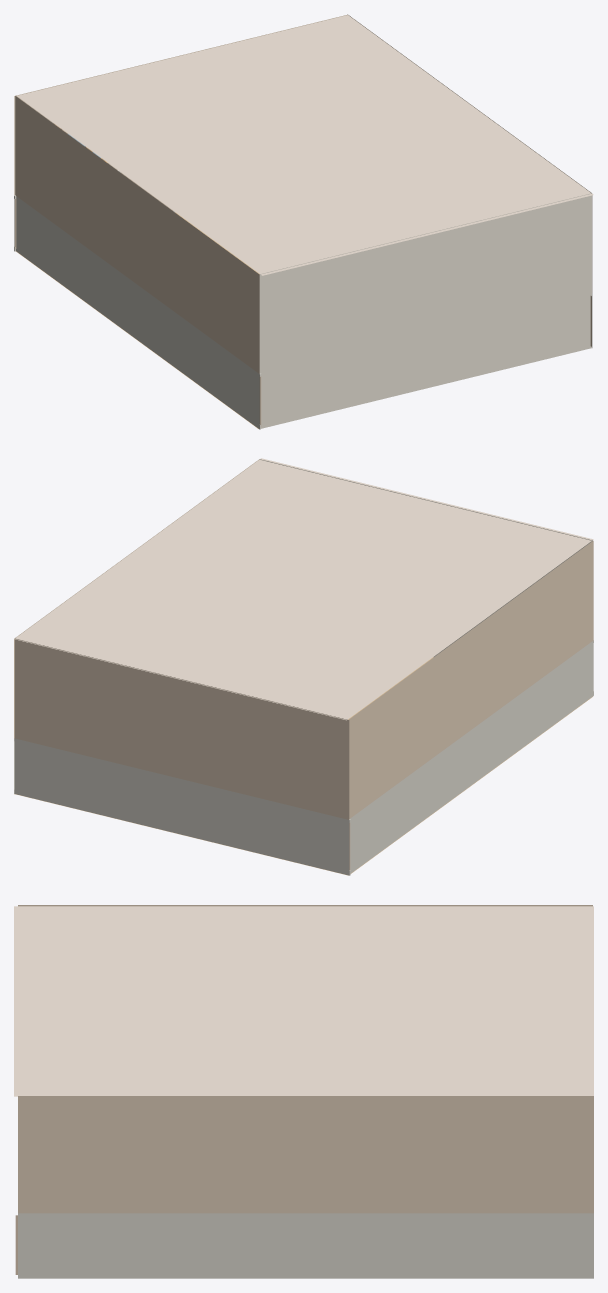
Rendered from default_room.fbx.
3 views of the same model, one above another, from view 1: azimuth 30°, elevation 25°; view 2: azimuth 150°, elevation 25°; view 3: azimuth 270°, elevation 25° (orthographic). The views are drawn at different scales.
Parts seen in each view (by area): view 1: Ceiling_Main, Wall_Front_LightBlocker, Wall_Left, Wall_Back, Wainscot_Trim_Left; view 2: Ceiling_Main, Wall_Back, Wall_Left, Baseboard_Back, Wainscot_Trim_Back, Baseboard_Left, Wainscot_Trim_Left, Floor_Main, Wall_Front_LightBlocker; view 3: Ceiling_Main, Wall_Right, Wall_Left.
Boxes of the visible parts, x1,y1,x2,y2 form: Ceiling_Main: (17,15,593,275); Wall_Front_LightBlocker: (259,193,591,428); Wall_Left: (15,96,259,429); Wall_Back: (14,14,347,245); Wainscot_Trim_Left: (16,196,261,376); Ceiling_Main: (14,458,593,720); Wall_Back: (15,638,349,874); Wall_Left: (349,540,593,873); Baseboard_Back: (14,789,350,875); Wainscot_Trim_Back: (14,738,350,822); Baseboard_Left: (383,691,593,846); Wainscot_Trim_Left: (349,640,593,819); Floor_Main: (14,657,592,875); Wall_Front_LightBlocker: (259,459,592,657); Ceiling_Main: (14,906,593,1096); Wall_Right: (18,1096,593,1278); Wall_Left: (18,905,592,906).
Bounding box in the file's own units: 758 × 336 × 968.
16 materials, 4 textured.
